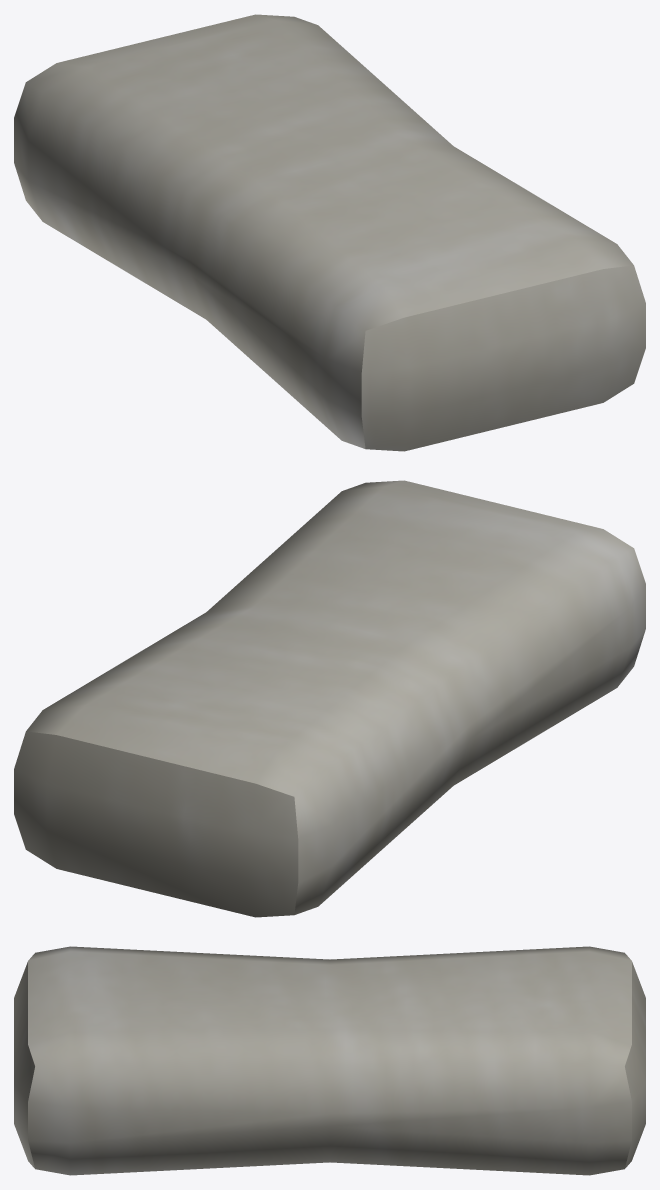
Rendered from Soap.fbx.
The picture shows the model from 3 angles, top to bottom: view 1: azimuth 30°, elevation 25°; view 2: azimuth 150°, elevation 25°; view 3: azimuth 270°, elevation 25°; orthographic projection. The views are drawn at different scales.
Visible parts, largest first — view 1: Soap; view 2: Soap; view 3: Soap.
Part boxes in pixels (box(x1,y1,x2,y2)): Soap: box(14, 14, 645, 451); Soap: box(14, 480, 645, 917); Soap: box(14, 946, 645, 1175).
Size of the model in its own units: 4.82 by 2.41 by 10.
